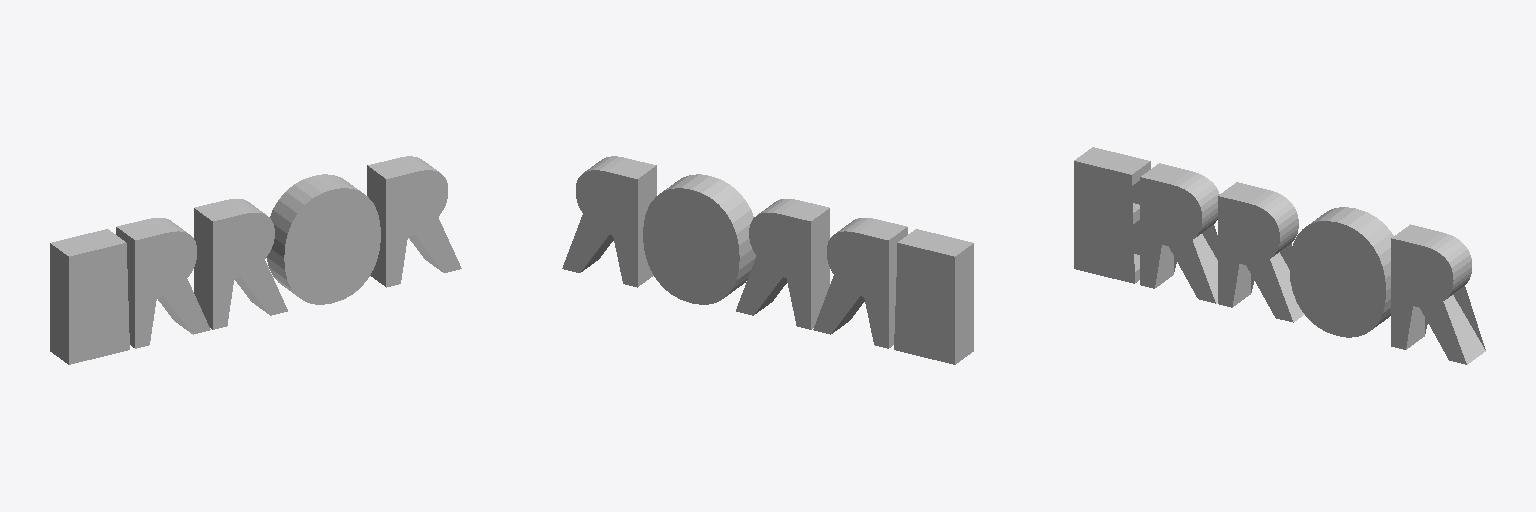
File: error.obj
3 renders of one model, left to right at view 1: azimuth 30°, elevation 25°; view 2: azimuth 150°, elevation 25°; view 3: azimuth 330°, elevation 25°, orthographic.
Visible parts, largest first — view 1: typeMesh1; view 2: typeMesh1; view 3: typeMesh1.
Boxes of the visible parts, <box> form: typeMesh1: <box>50,156,461,364</box>; typeMesh1: <box>562,156,973,364</box>; typeMesh1: <box>1074,147,1485,364</box>.
Size of the model in its own units: 45.39 by 12.54 by 3.78.